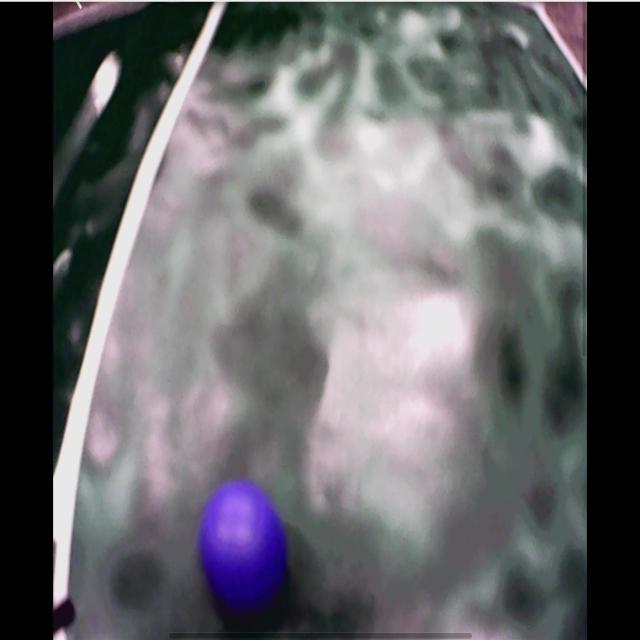ball: (198, 484, 288, 607)
